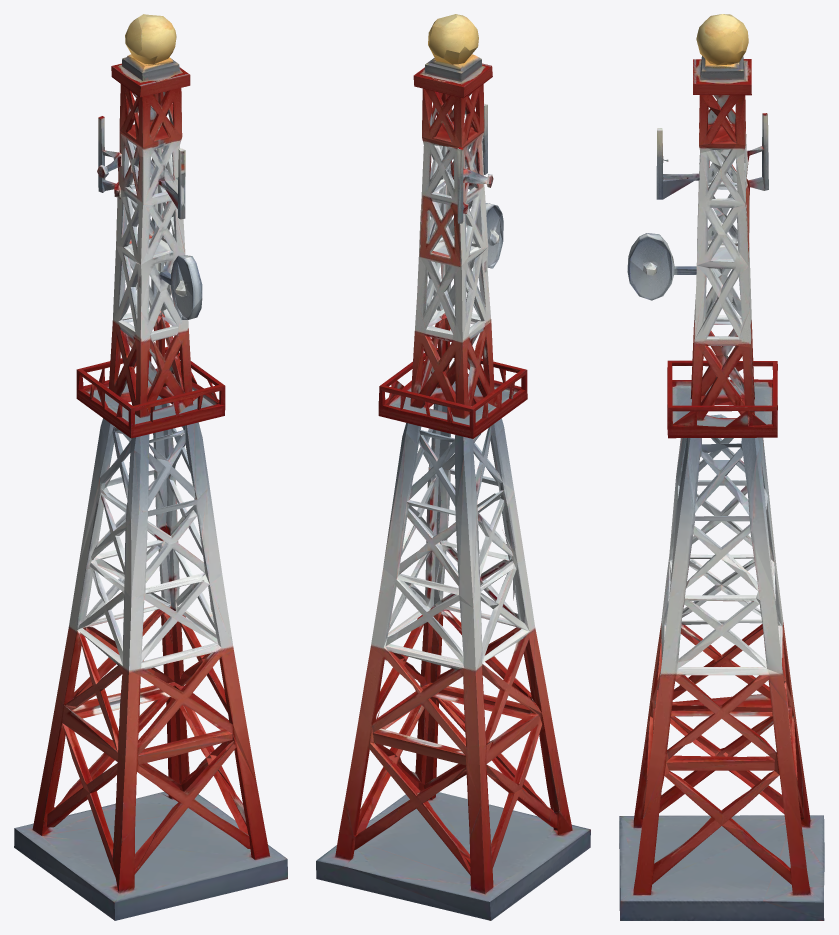
File: tower.glb
3 views of the same model, side by side, from view 1: azimuth 30°, elevation 25°; view 2: azimuth 150°, elevation 25°; view 3: azimuth 270°, elevation 25° (orthographic).
Size of the model in its own units: 0.4099 by 1.9 by 0.4102.
Materials: 1 (1 with a texture image).
